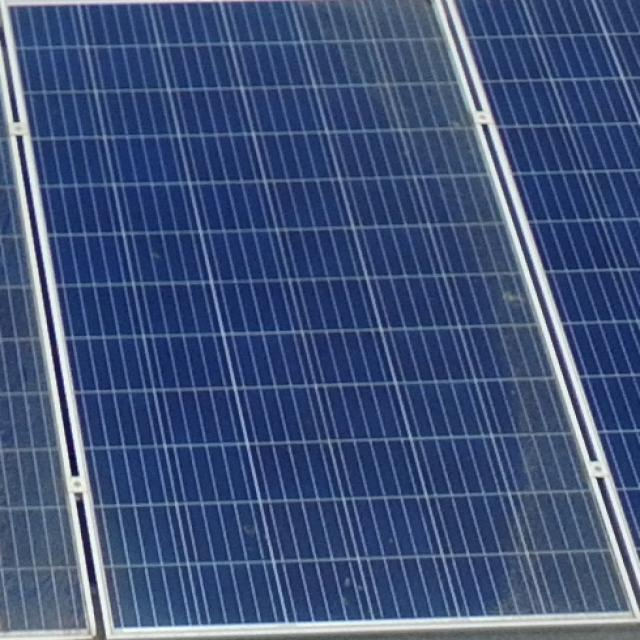Dust: (343, 2, 544, 302), (483, 345, 627, 627), (0, 379, 91, 639)
